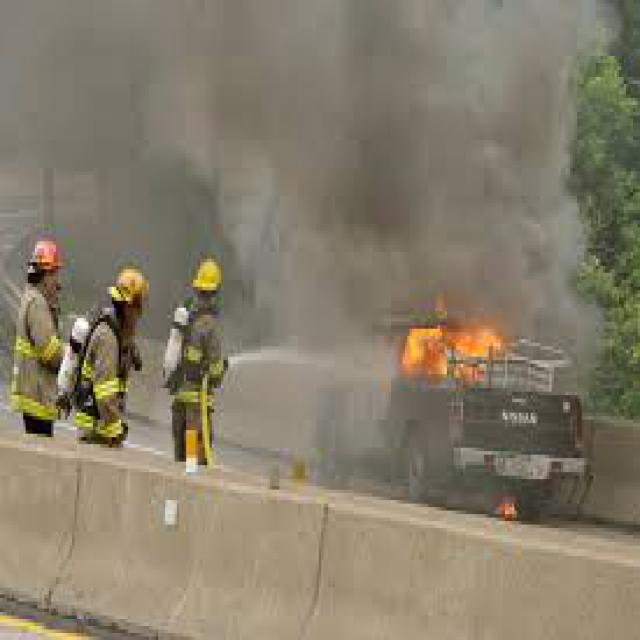fire: (387, 298, 513, 407)
